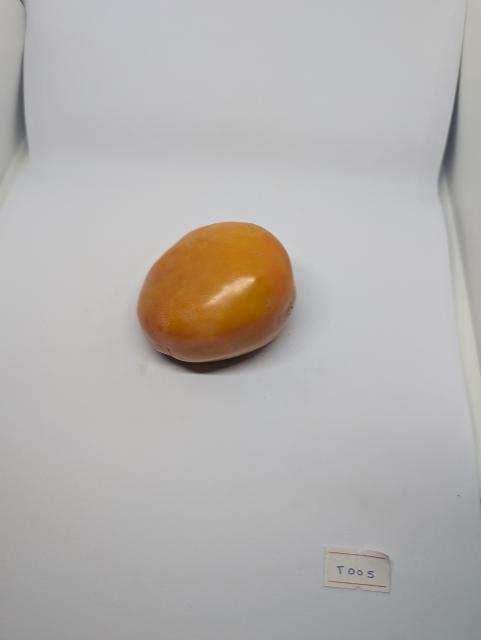turning: (129, 215, 304, 376)
